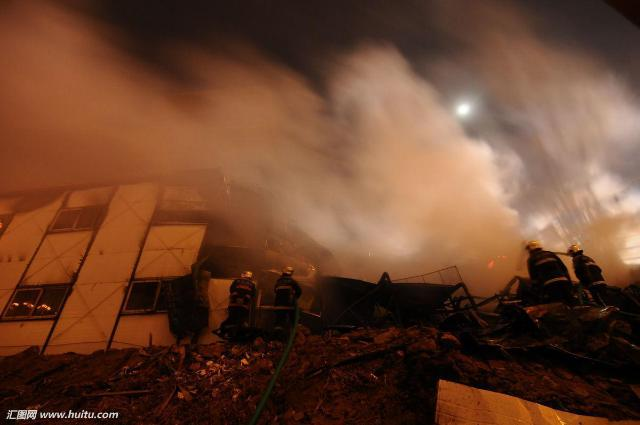smoke: (9, 64, 200, 166), (368, 141, 502, 242), (282, 137, 362, 236), (318, 74, 438, 134), (212, 69, 316, 133)
